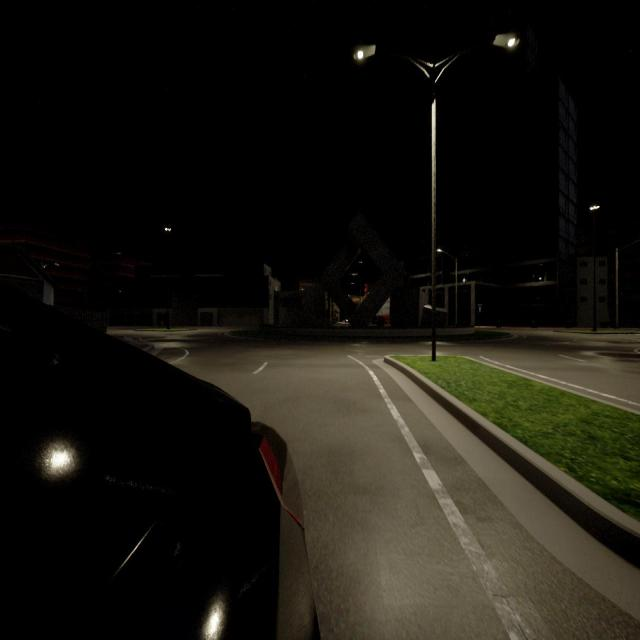Vehicle: (0, 297, 311, 640)
